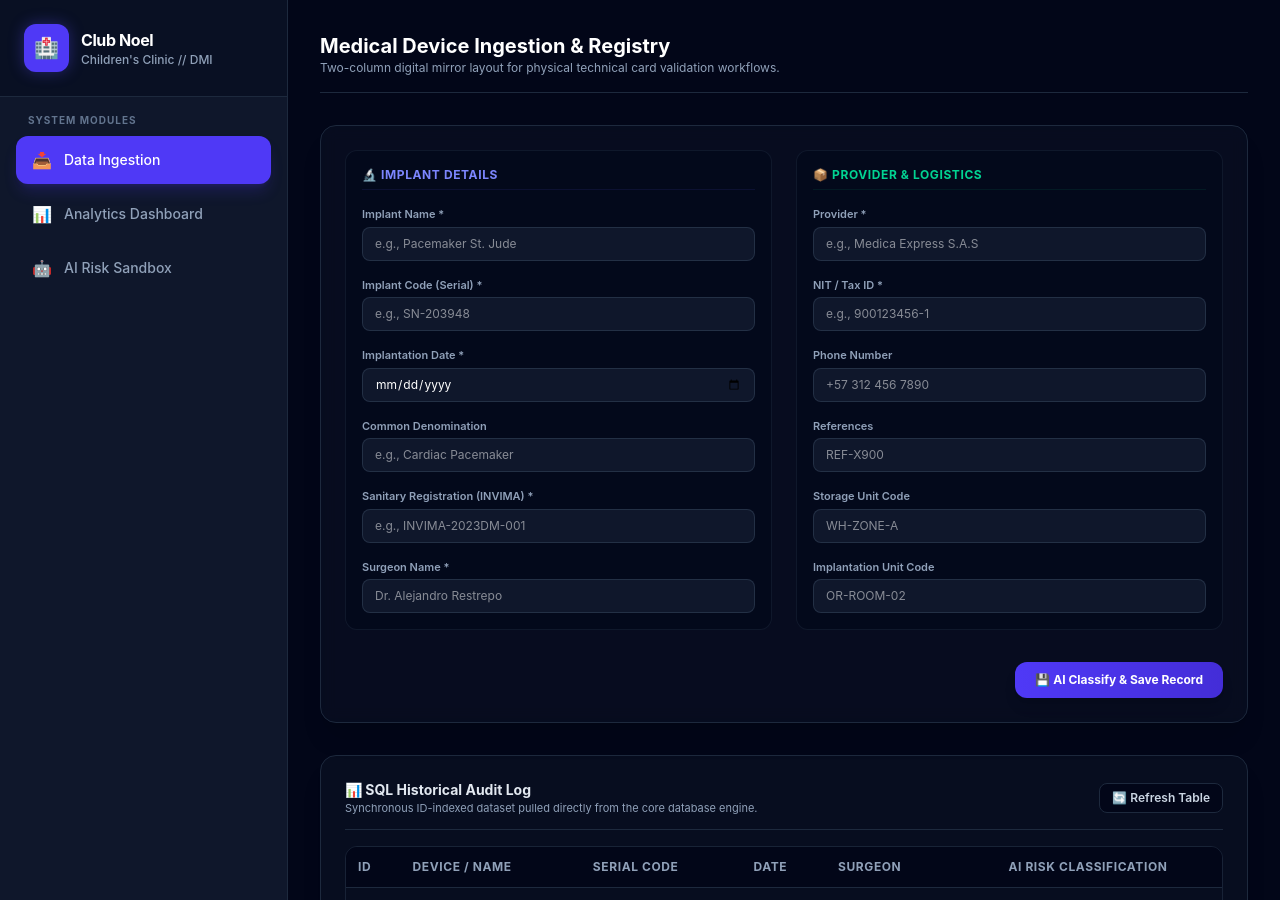
Test: Club Noel - Complete Frontend UI Integration Suite › 08 - handles connection error grace period and prompts feedback notification
In the field with placeholder "e.g., Pacemaker St. Jude": x=558, y=244 x1=362 y1=226 x2=755 y2=260, type "Failing Dev"
In the field with placeholder "e.g., SN-203948": x=558, y=314 x1=362 y1=297 x2=755 y2=331, type "SN-FAIL"
In the date field: x=558, y=384 x1=362 y1=368 x2=755 y2=402, type "2026-06-26"
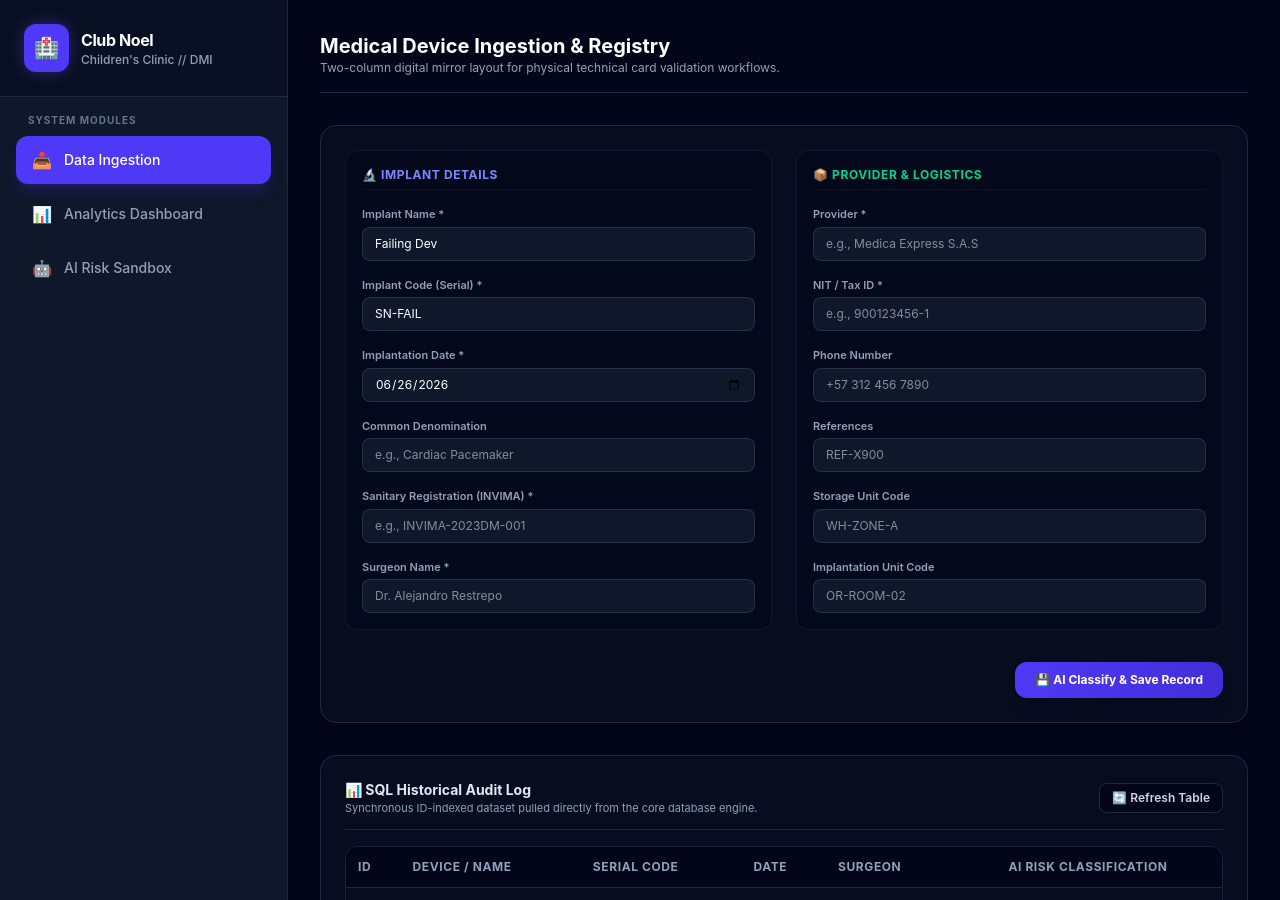
In the field with placeholder "e.g., INVIMA-2023DM-001": x=558, y=526 x1=362 y1=508 x2=755 y2=542, type "INVIMA-FAIL"
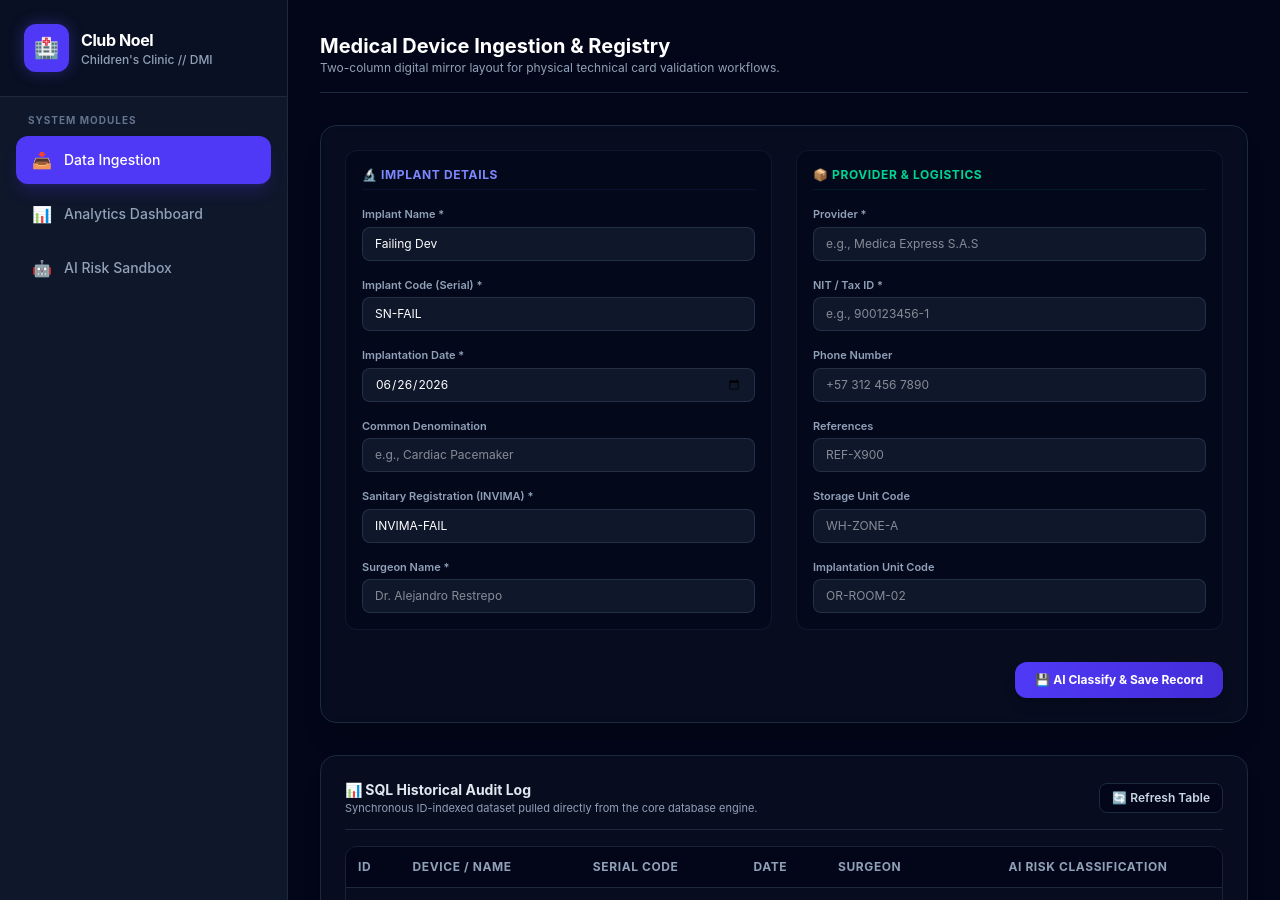
In the field with placeholder "Dr. Alejandro Restrepo": x=558, y=596 x1=362 y1=579 x2=755 y2=613, type "Dr. Fail"
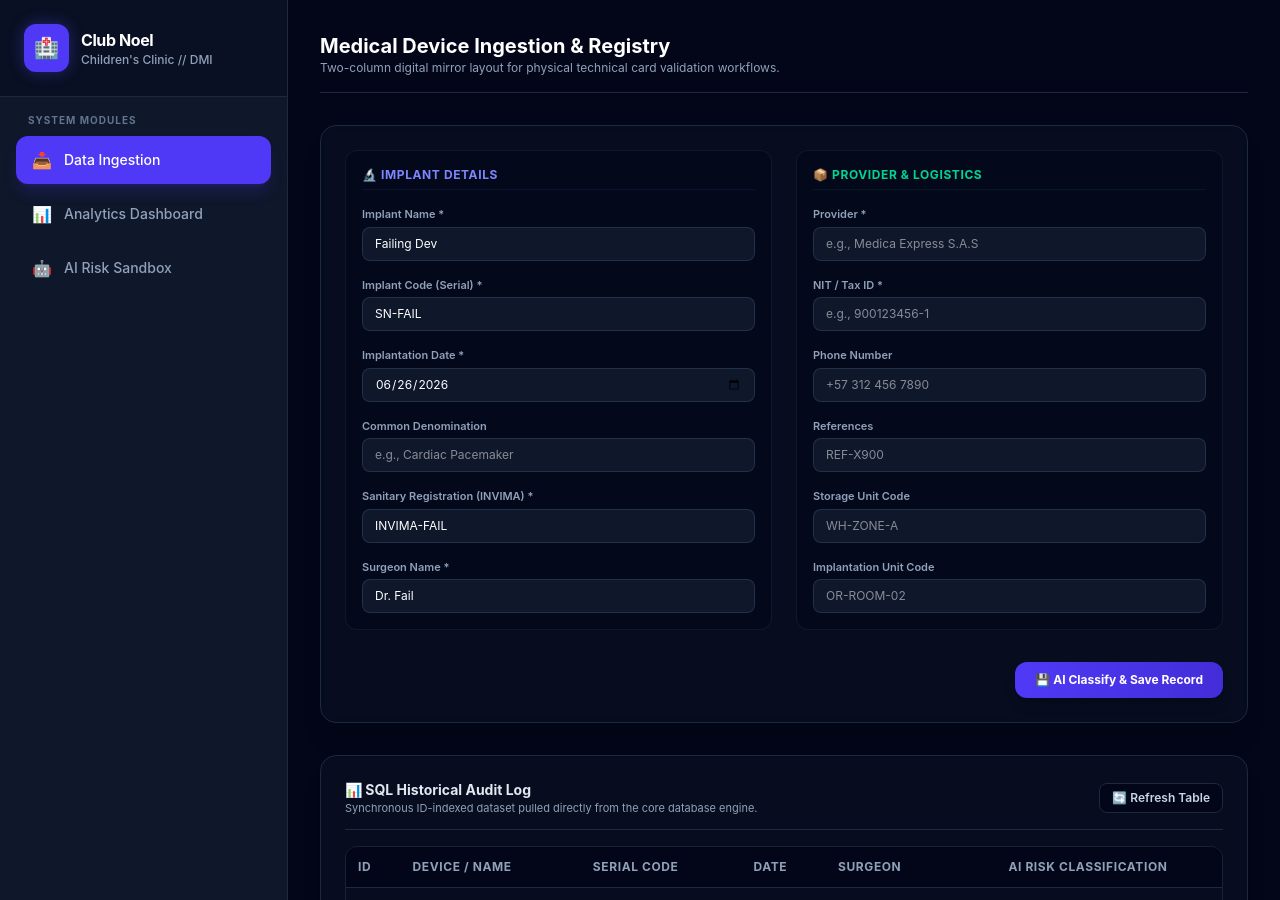
In the field with placeholder "e.g., Medica Express S.A.S": x=1010, y=244 x1=813 y1=226 x2=1206 y2=260, type "Fail Corp"
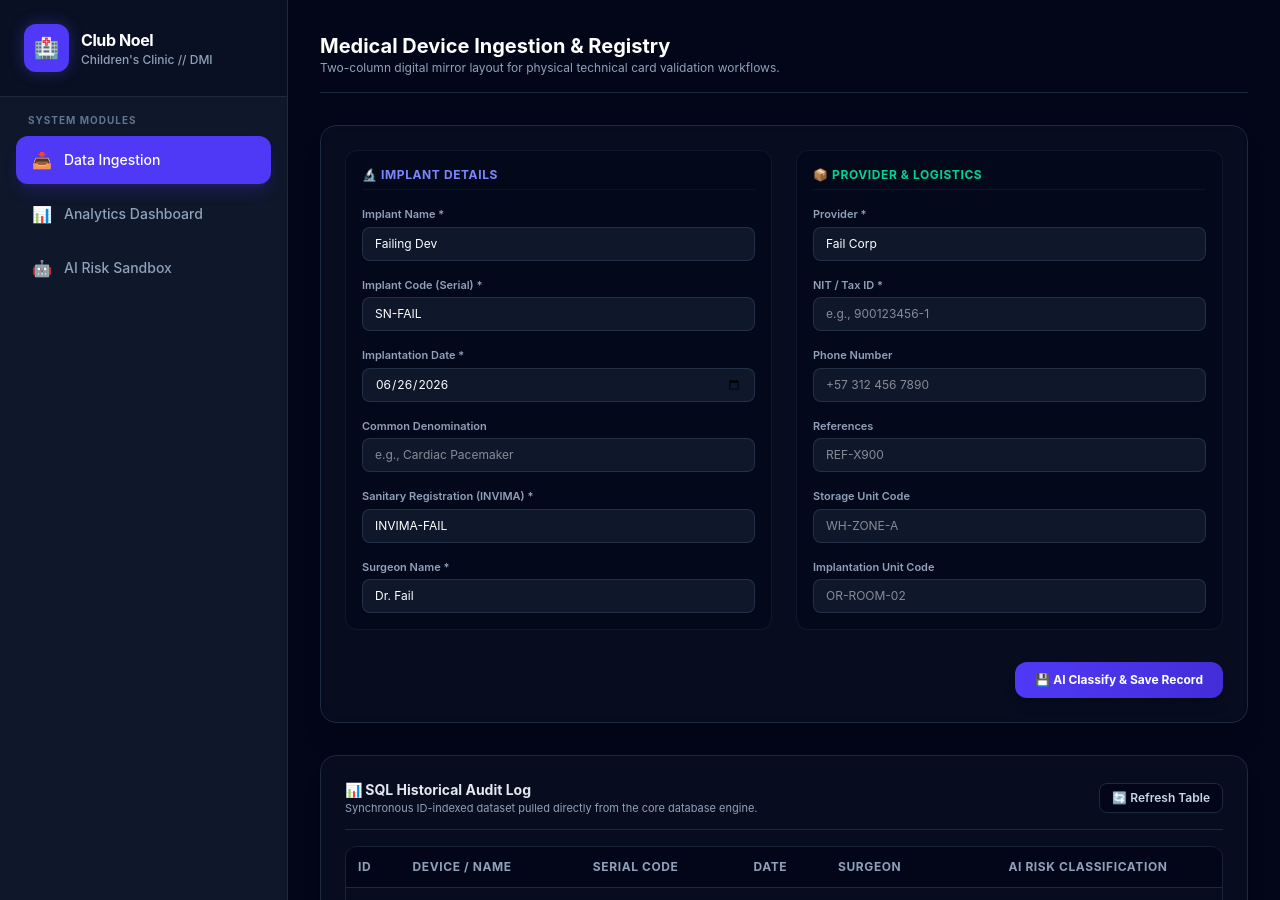
In the field with placeholder "e.g., 900123456-1": x=1010, y=314 x1=813 y1=297 x2=1206 y2=331, type "00000000-0"
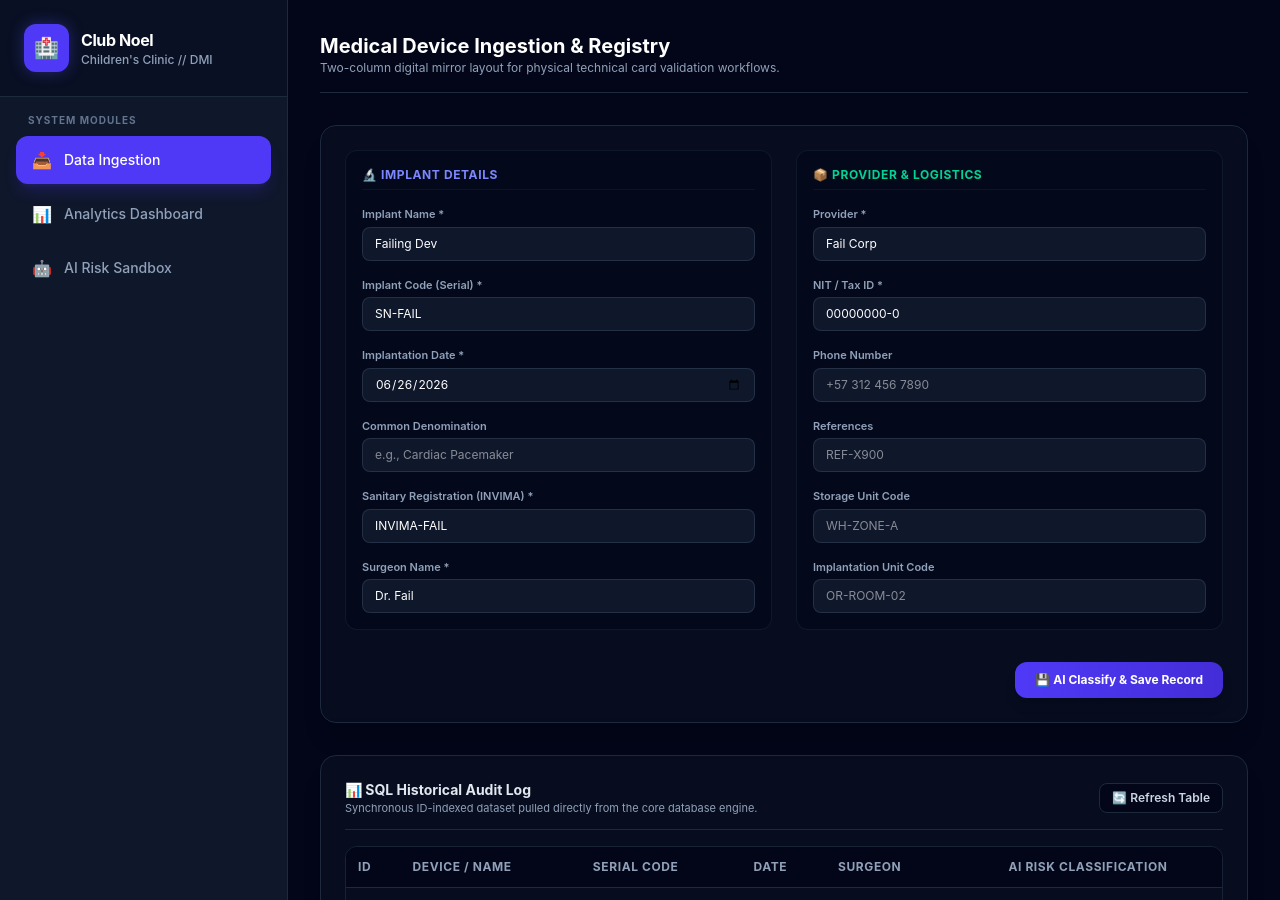
Click the button "💾 AI Classify & Save Record": x=1119, y=680 x1=1015 y1=662 x2=1223 y2=698
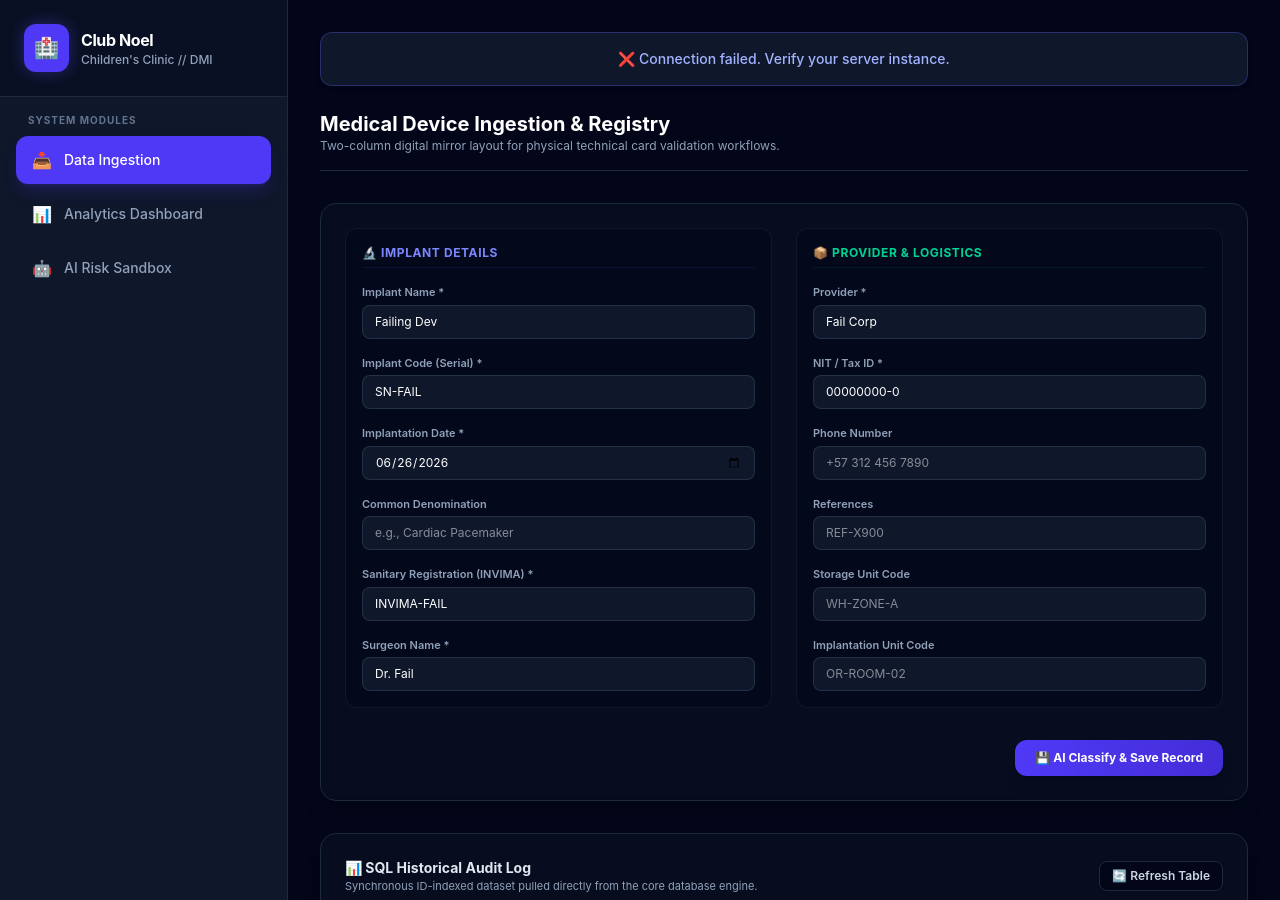
Check: the text "❌ Connection failed. Verify your server instance." is shown, box x1=320 y1=32 x2=1248 y2=86
